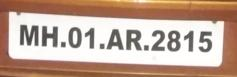0: (65, 24, 82, 49)
1: (183, 29, 196, 54), (84, 26, 96, 50)
2: (150, 29, 166, 53)
5: (197, 28, 215, 51)
8: (166, 28, 183, 51)
A: (106, 28, 125, 53)
H: (41, 23, 58, 43)
M: (17, 23, 40, 49)
R: (124, 29, 144, 53)
